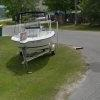Boat: (7, 16, 72, 66)
